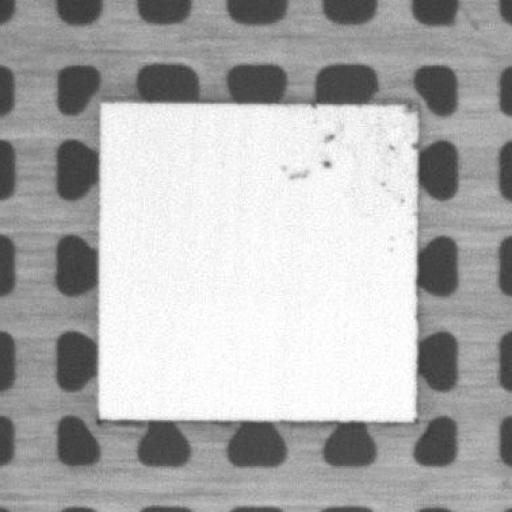DIE_INK: (284, 104, 414, 235)
